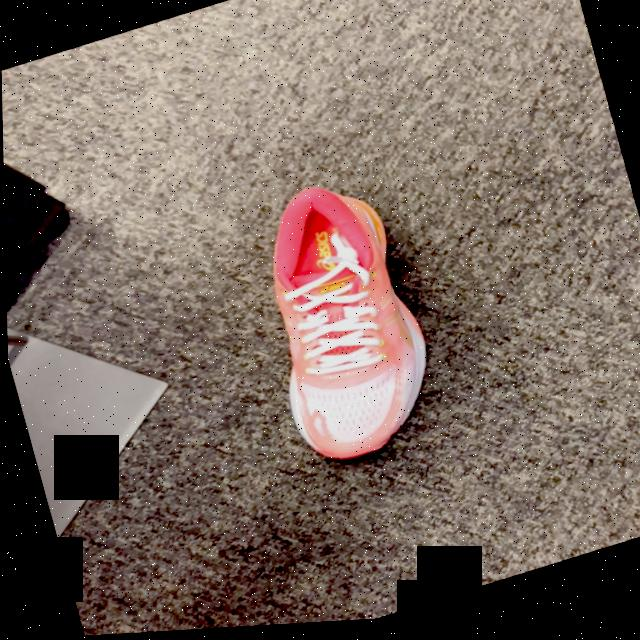shoe: (273, 191, 427, 466)
